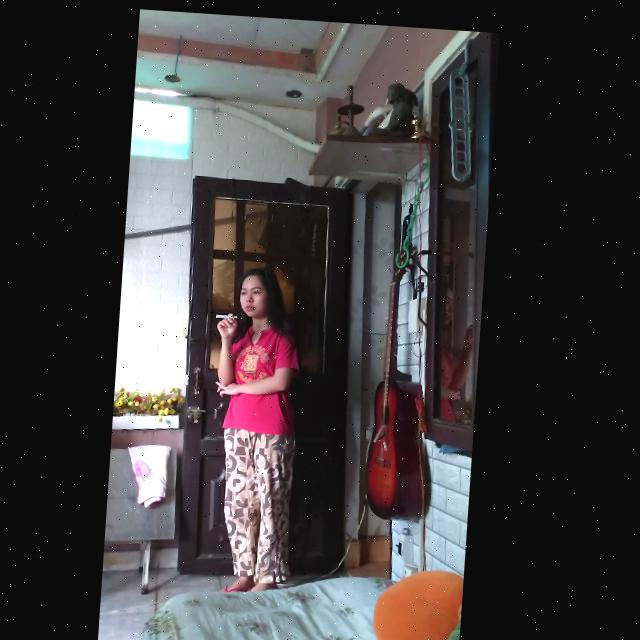cigarette: (221, 312, 242, 316)
